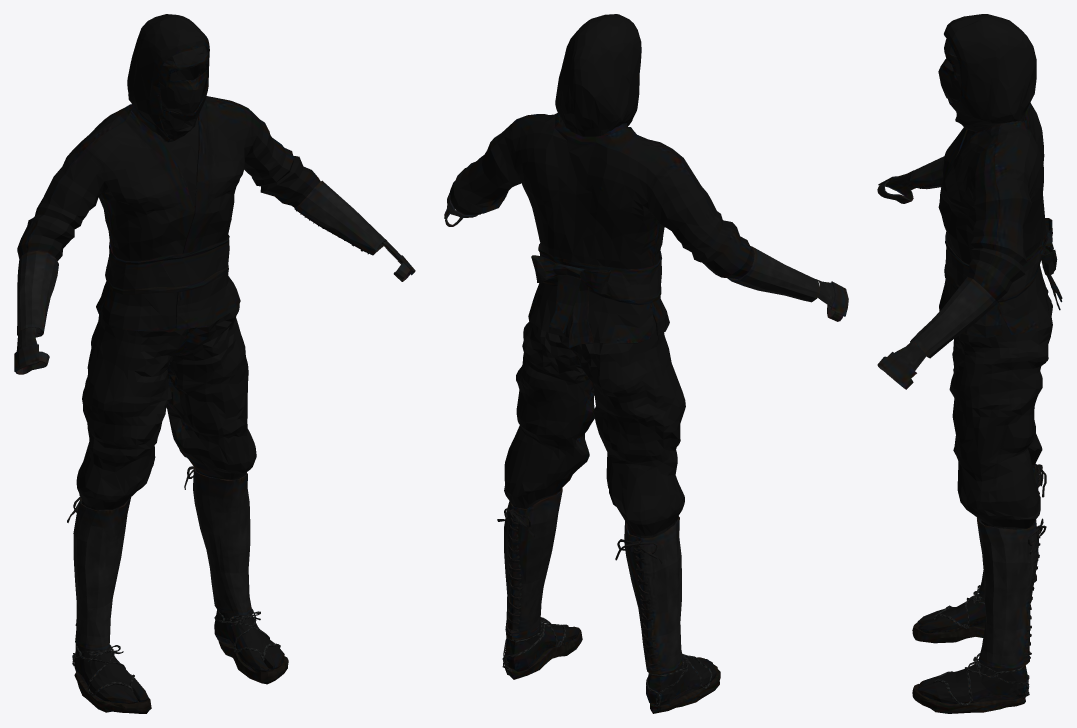
The model's file is mhw_mindfront_f_ninja.glb.
The picture shows the model from 3 angles, left to right: view 1: azimuth 30°, elevation 25°; view 2: azimuth 150°, elevation 25°; view 3: azimuth 270°, elevation 25°; orthographic projection.
Parts seen in each view (by area): view 1: mhw_mindfront_f_ninja; view 2: mhw_mindfront_f_ninja; view 3: mhw_mindfront_f_ninja.
Part boxes in pixels (x1,y1,x2,y2): mhw_mindfront_f_ninja: [14, 14, 415, 713]; mhw_mindfront_f_ninja: [444, 14, 848, 713]; mhw_mindfront_f_ninja: [877, 14, 1062, 713].
Size of the model in its own units: 1.19 by 1.88 by 0.4833.
1 material, 1 textured.
